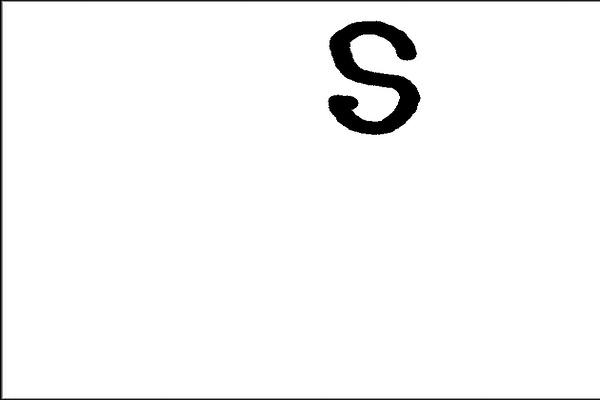S: (323, 14, 425, 138)
